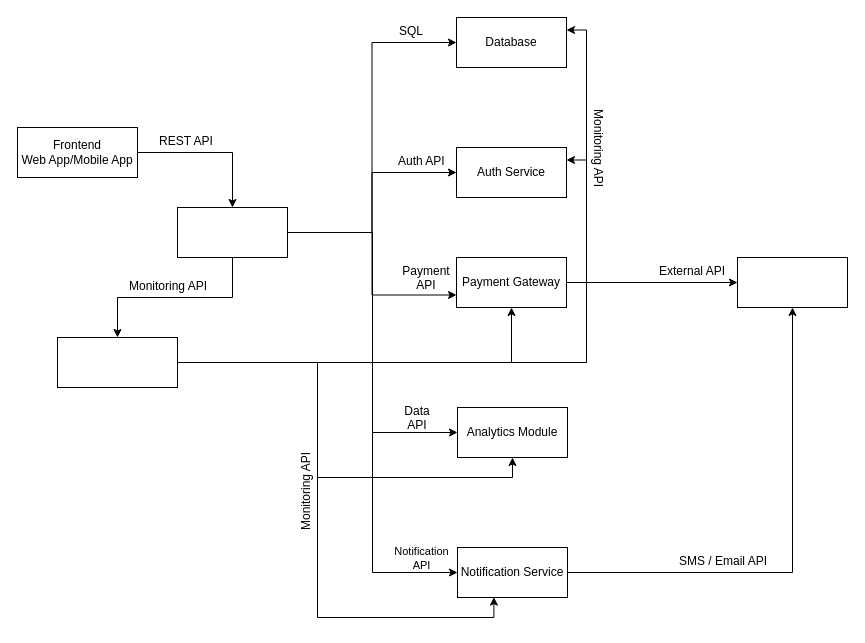
The diagram is 865 pixels wide and 643 high, and some of its shapes have lost their labels. The centre of each missing label's shape, as x and y in pixels:
"Backend" goes at point (232, 232).
"External Systems" goes at point (792, 282).
"Monitoring System" goes at point (117, 362).
